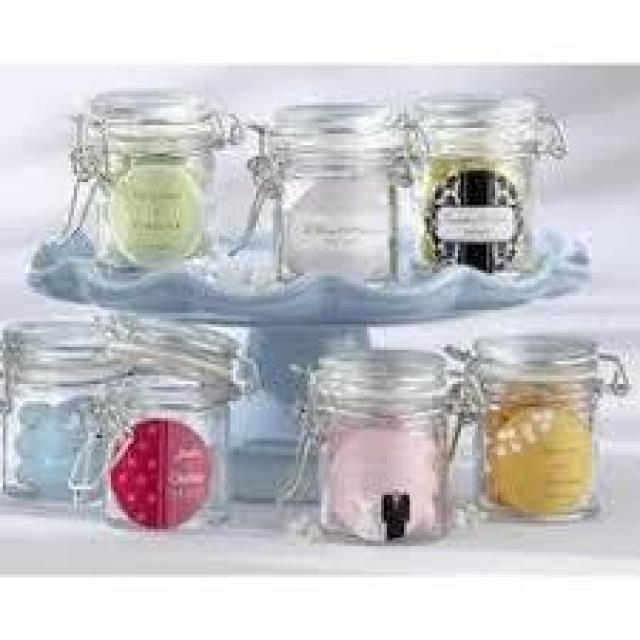non-organic waste: (62, 308, 262, 542), (273, 338, 484, 544), (223, 101, 431, 286), (46, 87, 244, 277)
